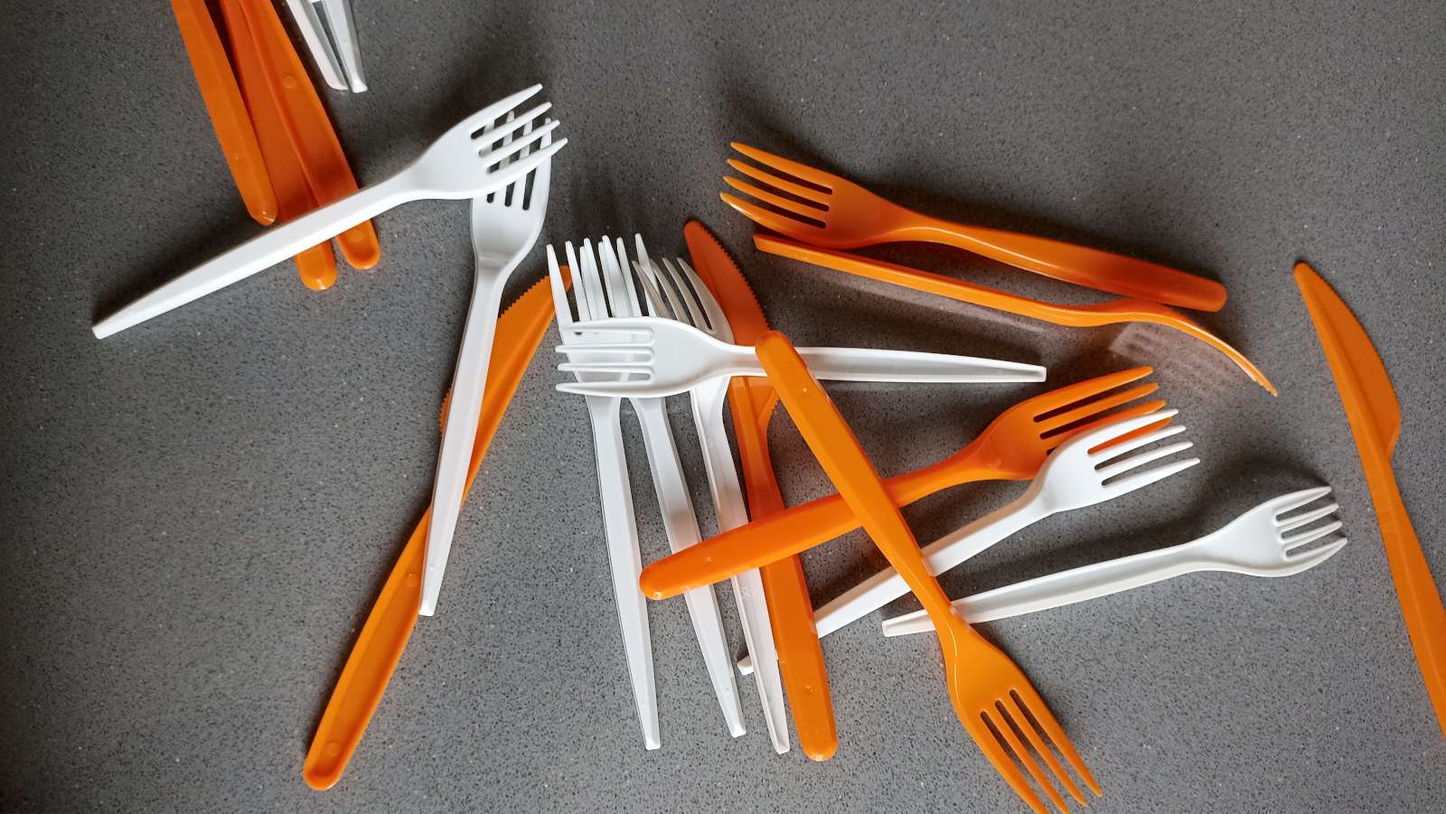plastic: (109, 0, 1445, 814)
